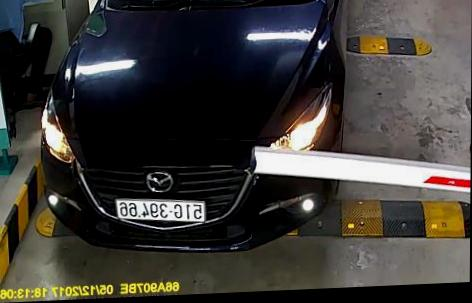License_Plate: (110, 190, 208, 229)
